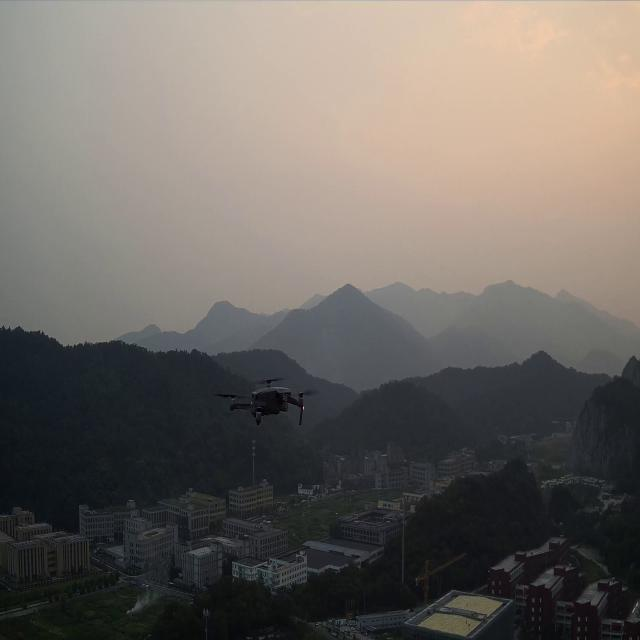UAV: (216, 377, 314, 428)
